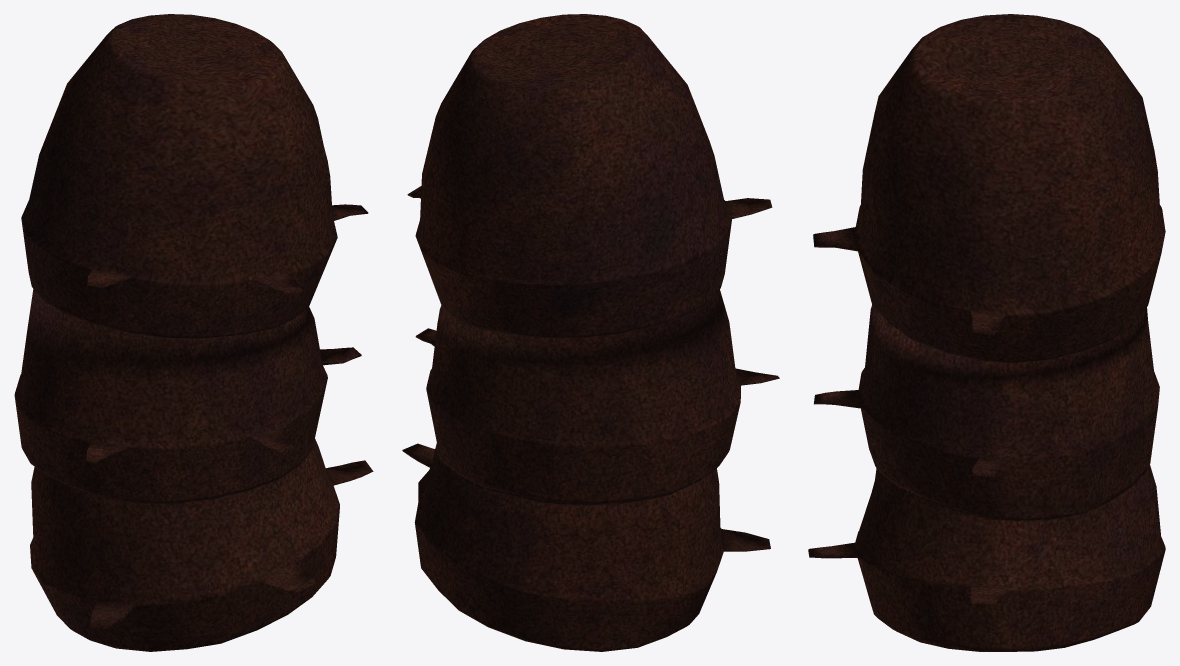
The model's file is jar.glb.
3 views of the same model, side by side, from view 1: azimuth 30°, elevation 25°; view 2: azimuth 150°, elevation 25°; view 3: azimuth 270°, elevation 25° (orthographic). The views are drawn at different scales.
Parts seen in each view (by area): view 1: SM_Mado_Jal; view 2: SM_Mado_Jal; view 3: SM_Mado_Jal.
Boxes of the visible parts, x1=… form: SM_Mado_Jal: x1=14, y1=14, x2=373, y2=651; SM_Mado_Jal: x1=402, y1=14, x2=779, y2=651; SM_Mado_Jal: x1=808, y1=14, x2=1165, y2=651.
Bounding box in the file's own units: 0.4834 × 0.7823 × 0.4365.
Materials: 1 (1 with a texture image).
